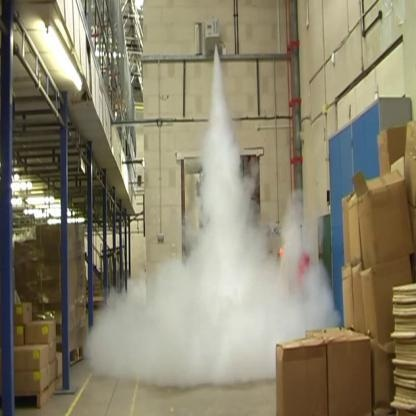smoke: (107, 41, 317, 382)
